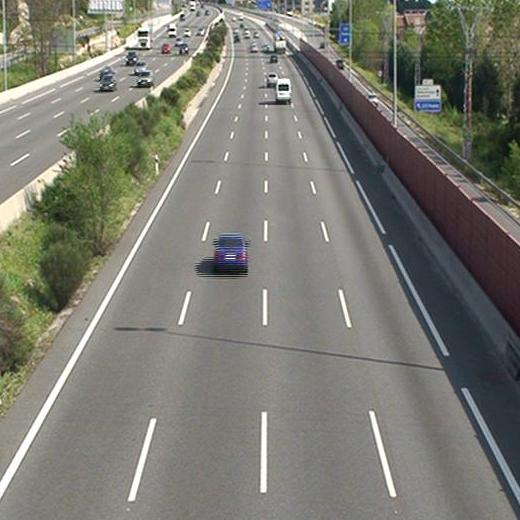car: (212, 235, 248, 272), (267, 74, 278, 85), (270, 53, 279, 63)
van: (276, 79, 292, 105)
